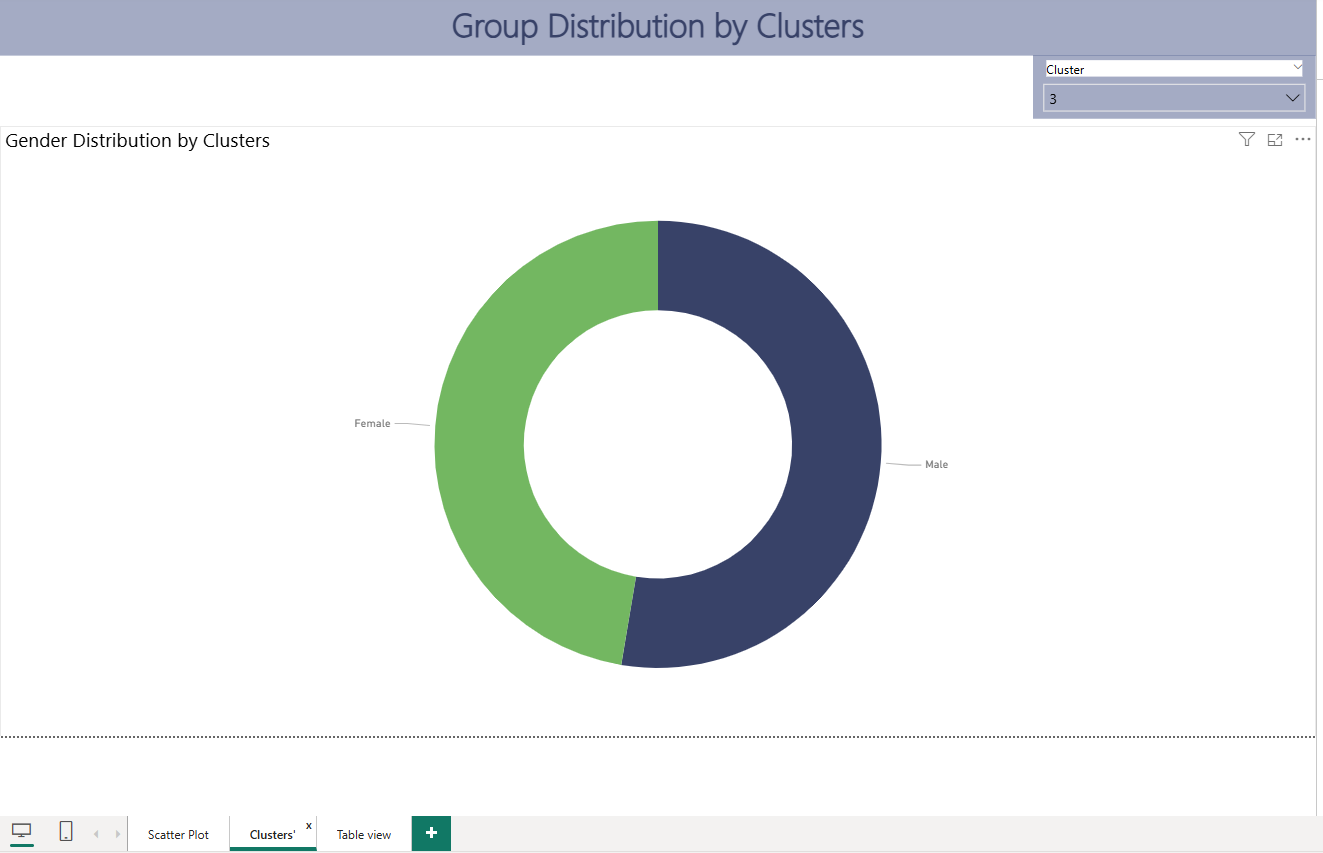

Layout of this report page (visuals, bound fields, positions):
{"tool":"powerbi","page":{"name":"Clusters'","canvas":[1280,720],"ordinal":1},"visuals":[{"type":"donutChart","title":"Gender Distribution by Clusters","fields":{"Category":["segmented_customers.Gender"],"Y":["CountNonNull(segmented_customers.CustomerID)"]},"box":[0,126.2,1280,594.3],"z":0},{"type":"slicer","fields":{"Values":["segmented_customers.Cluster"]},"box":[1004.7,57.6,275.3,61.6],"z":1000},{"type":"textbox","box":[0,0,1280,57.6],"z":2000}]}

Visuals, with their boxes on the page's 1280x720 design canvas (x1, y1, x2, y2). These are canvas units, not pixel positions in the 1323x853 screenshot, which may show the page scaled, cropped or inside an application window:
"Gender Distribution by Clusters" donutChart: Rect(0, 126, 1280, 720)
slicer - segmented_customers.Cluster: Rect(1005, 58, 1280, 119)
textbox: Rect(0, 0, 1280, 58)
